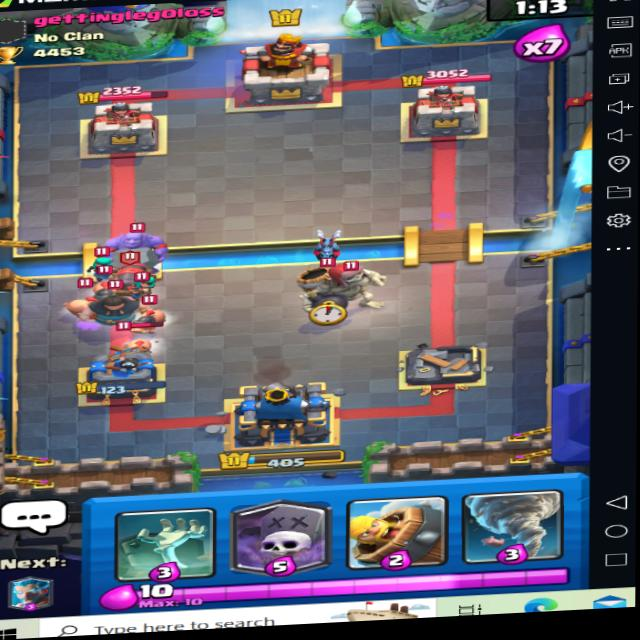bowler: (97, 217, 183, 283)
cannon-cart: (107, 251, 152, 295)
giant-skeleton: (279, 243, 378, 316)
minion: (311, 229, 344, 259)
rascal-boy: (86, 281, 148, 326)
rascal-girl: (87, 247, 124, 275)
royal-hogs: (132, 293, 171, 331), (121, 325, 159, 356)
